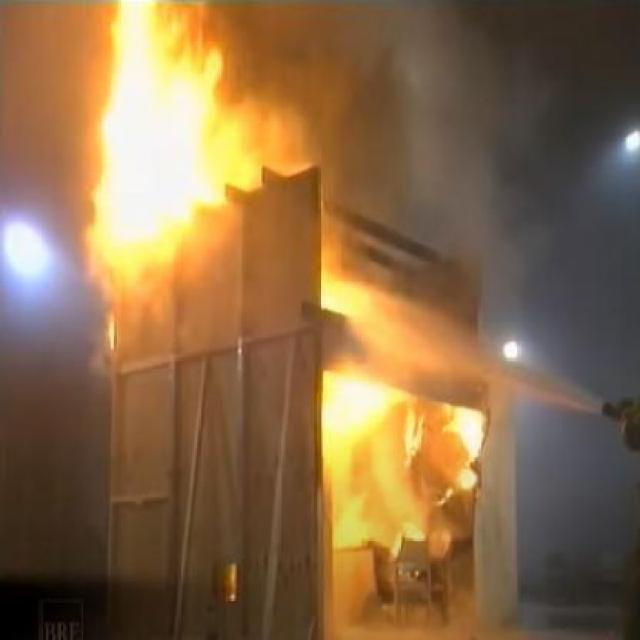Fire: (110, 1, 218, 222), (250, 93, 332, 173), (95, 186, 178, 262), (401, 390, 454, 498), (320, 366, 398, 431), (211, 105, 251, 190), (88, 198, 115, 286), (448, 404, 484, 456), (99, 118, 113, 187), (453, 468, 478, 496)
